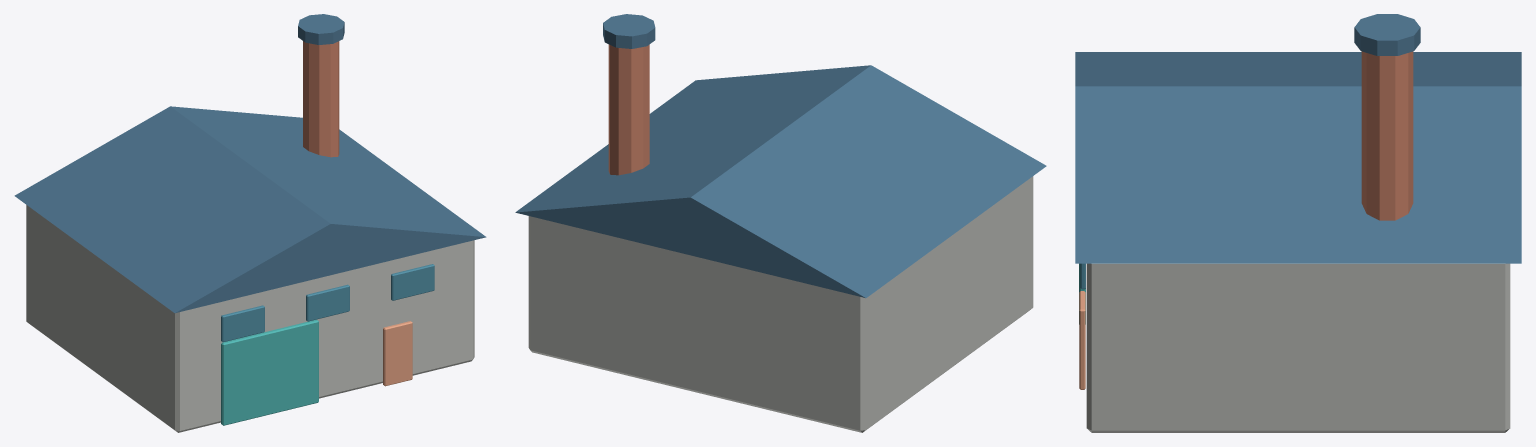
File: IND_LOW_2x2_001.glb
3 renders of one model, left to right at view 1: azimuth 30°, elevation 25°; view 2: azimuth 150°, elevation 25°; view 3: azimuth 270°, elevation 25°, orthographic. The views are drawn at different scales.
Parts seen in each view (by area): view 1: IND_LOW_2x2_001_Visual; view 2: IND_LOW_2x2_001_Visual; view 3: IND_LOW_2x2_001_Visual.
Part boxes in pixels (bbox=[...]): IND_LOW_2x2_001_Visual: bbox=[14, 14, 486, 432]; IND_LOW_2x2_001_Visual: bbox=[515, 14, 1046, 432]; IND_LOW_2x2_001_Visual: bbox=[1075, 14, 1521, 432].
Size of what is drawn, in the model's own units: 3.49 by 2.89 by 3.11.
